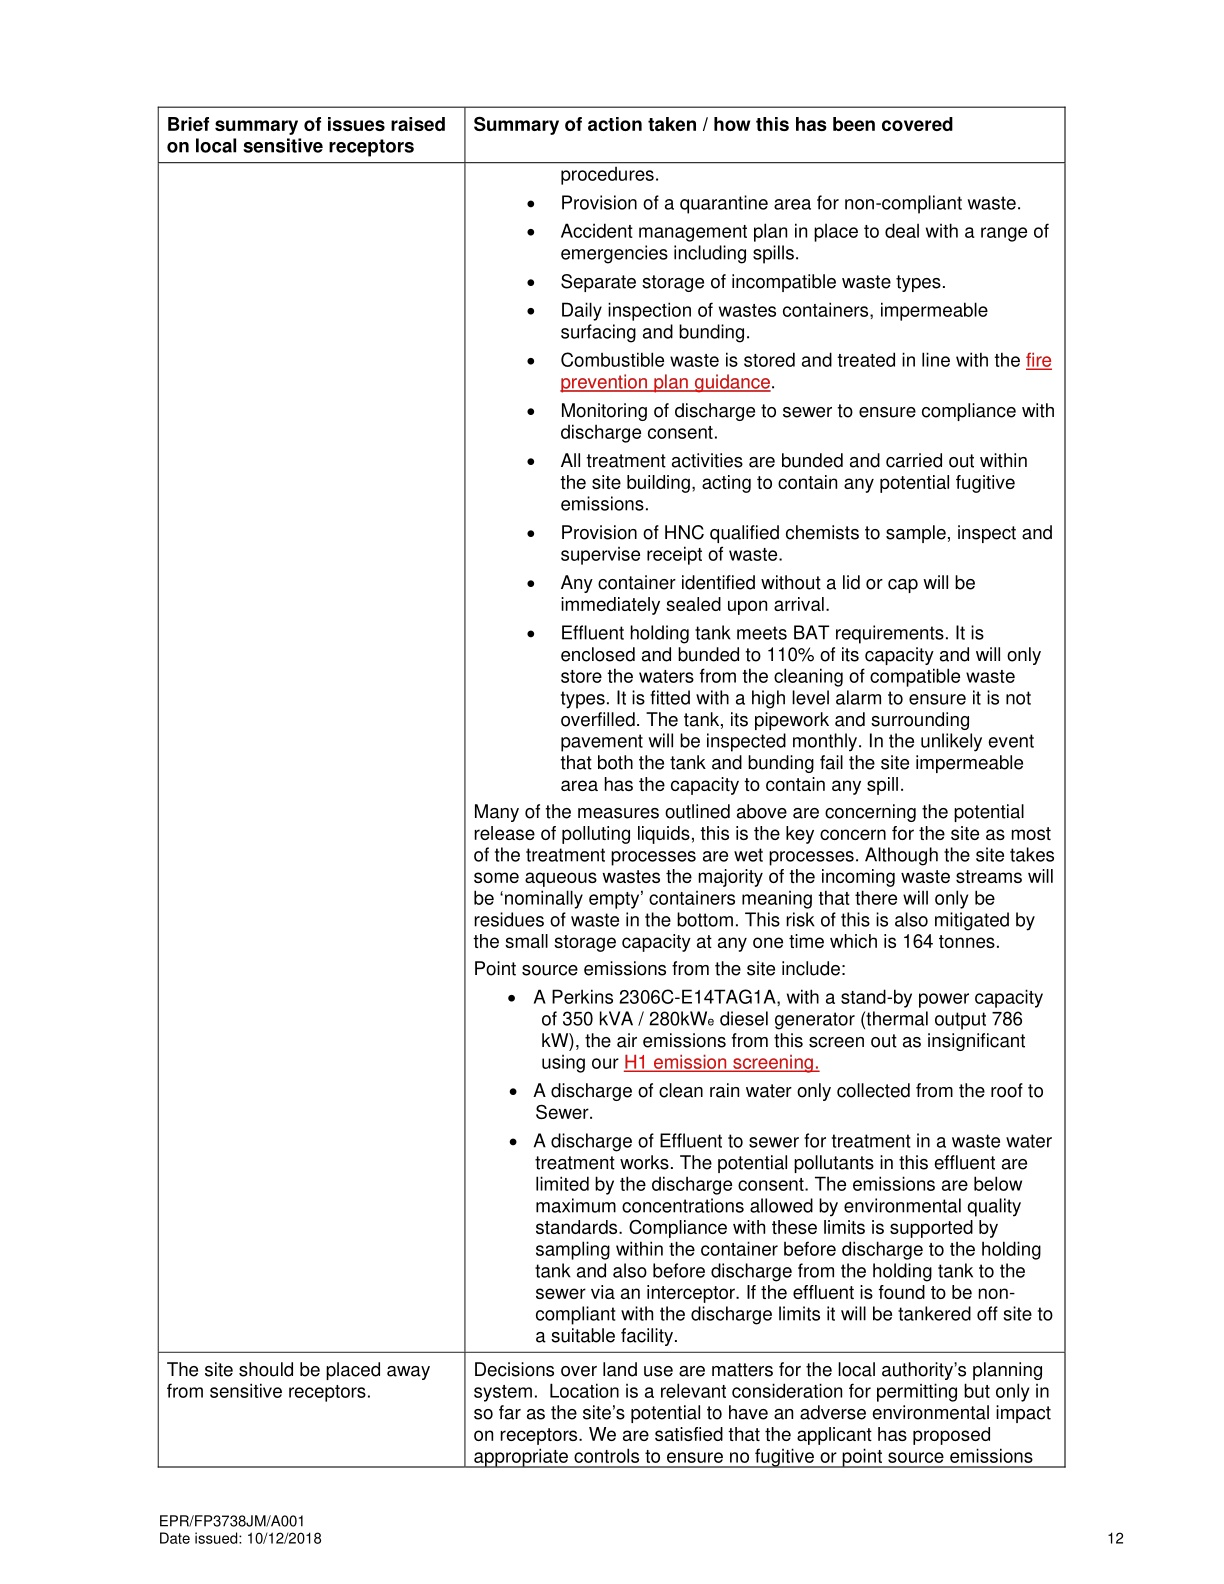full_lined: (157, 105, 1067, 1468)
